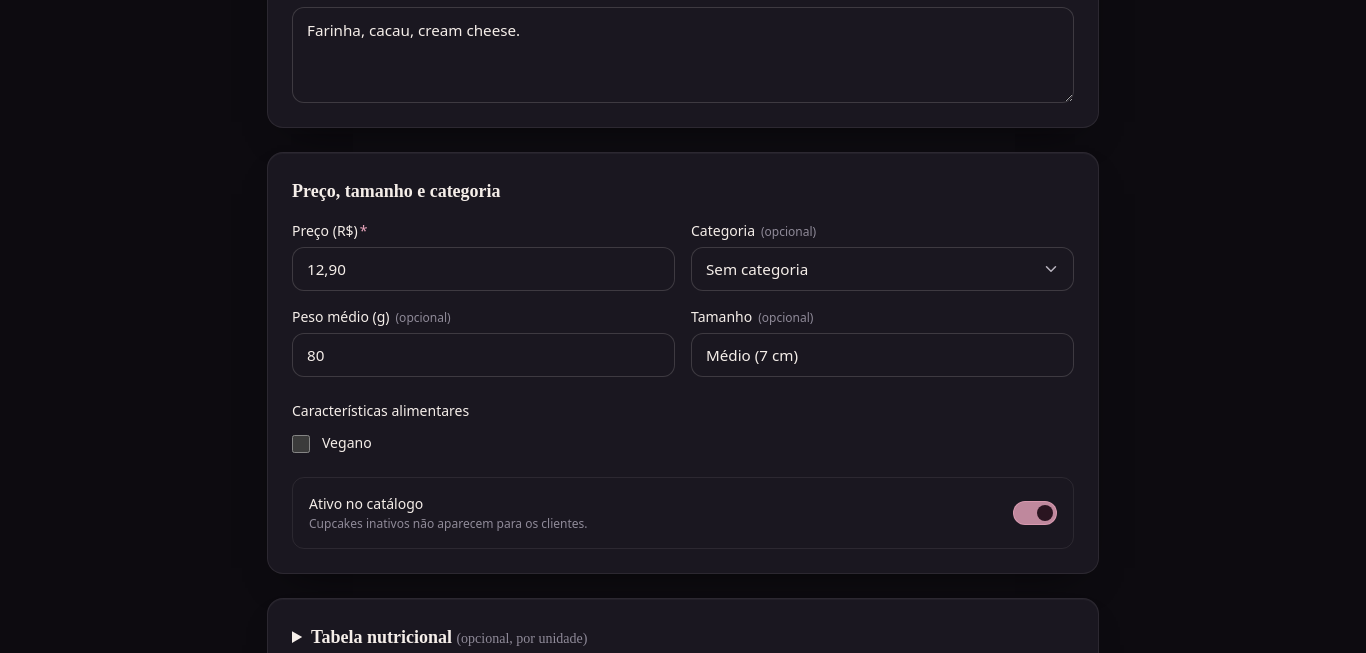
Cadastro de cupcake (US15) › edita um cupcake existente
(page scrolled)
Step 1. Type "14,90" into the field labelled "Preço (R$)*" → point(484, 269), box [292,247,675,291]
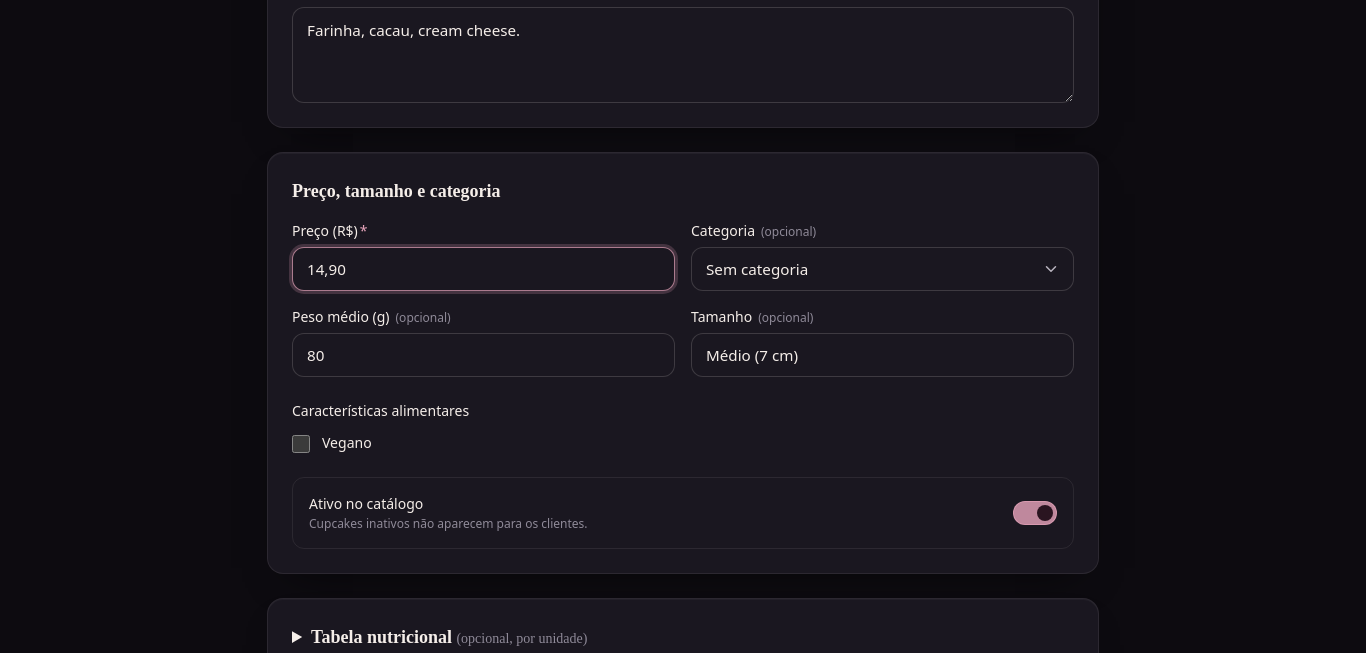
Step 2. Click the switch labelled "Ativo no catálogo" → point(1035, 513), box [1013,501,1057,525]
(page scrolled)
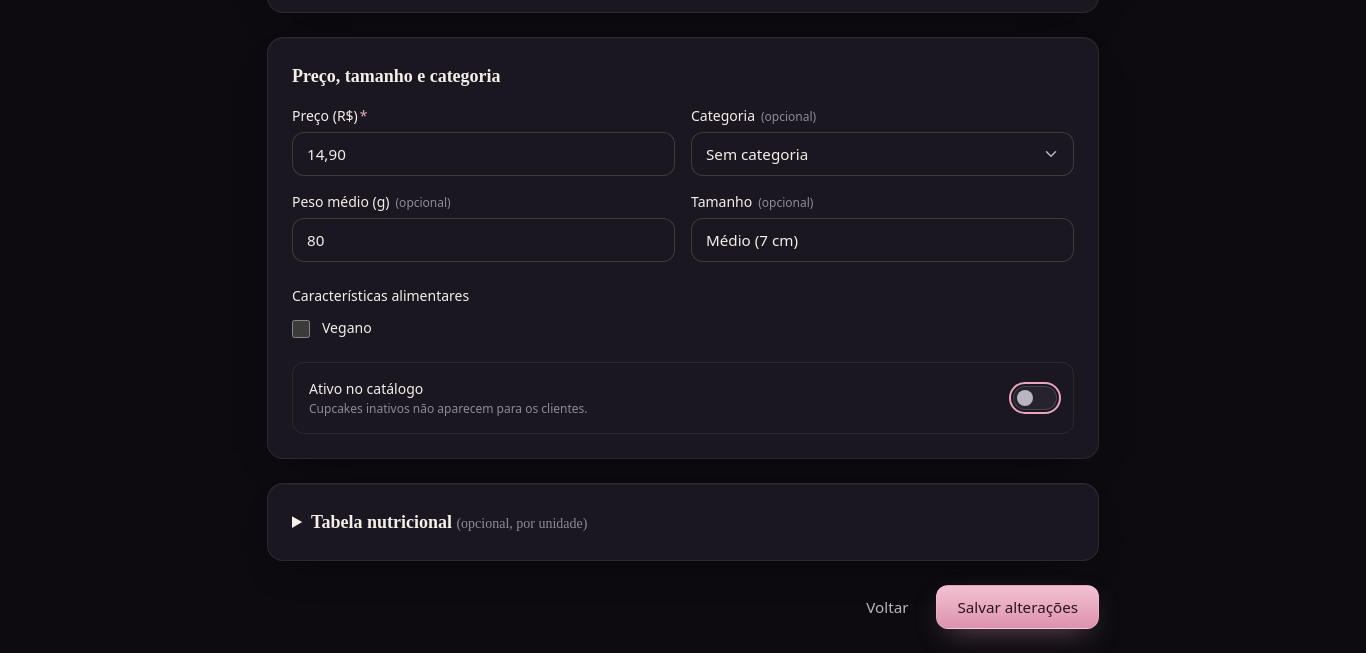
Step 3. Click the button "Salvar alterações" → point(1018, 607), box [936,585,1099,629]
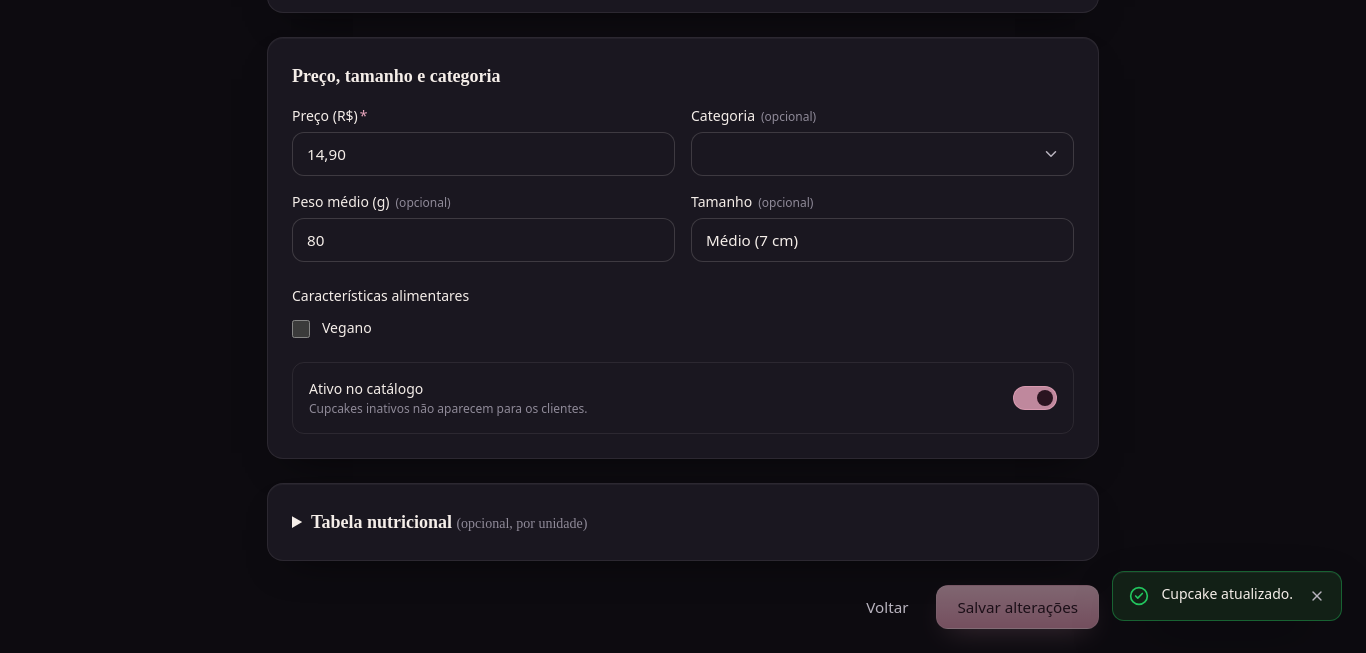
Result: the text "Cupcake atualizado." is shown at [1161,584,1293,604]
